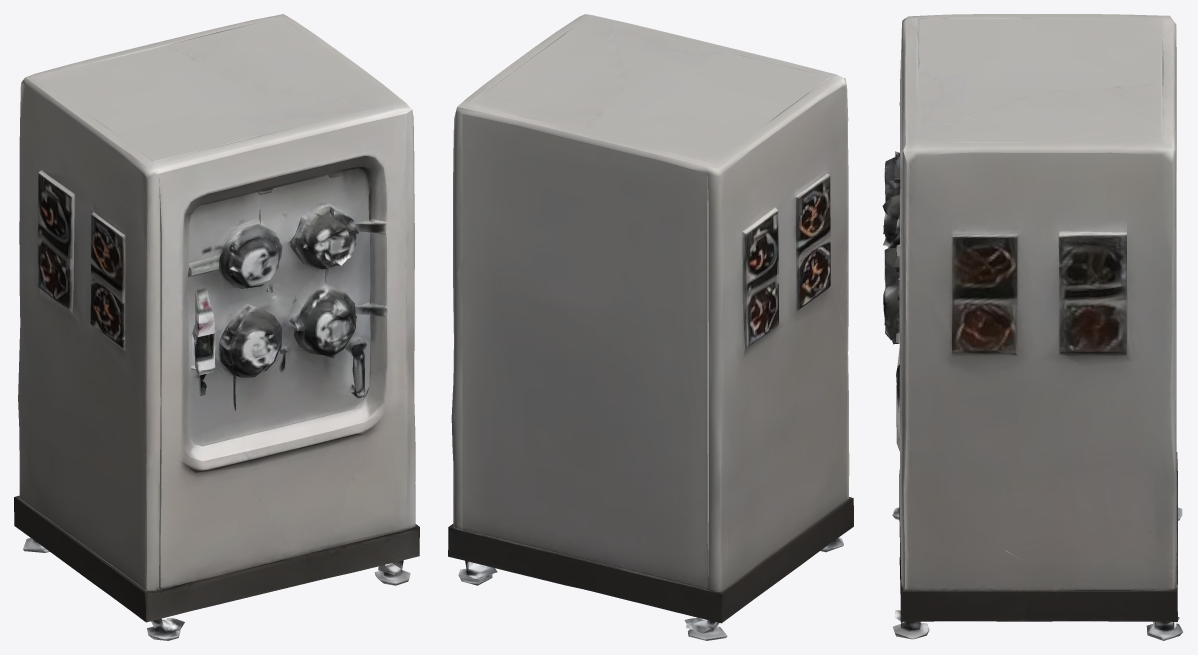
The model's file is m2LabMachineBg.glb.
3 views of the same model, side by side, from view 1: azimuth 30°, elevation 25°; view 2: azimuth 150°, elevation 25°; view 3: azimuth 270°, elevation 25° (orthographic). The views are drawn at different scales.
Visible parts, largest first — view 1: model; view 2: model; view 3: model.
Boxes of the visible parts, <box> form: model: <box>14,14,419,640</box>; model: <box>448,14,853,640</box>; model: <box>882,14,1183,640</box>.
Bounding box in the file's own units: 1.17 × 1.9 × 1.05.
Materials: 1 (1 with a texture image).
